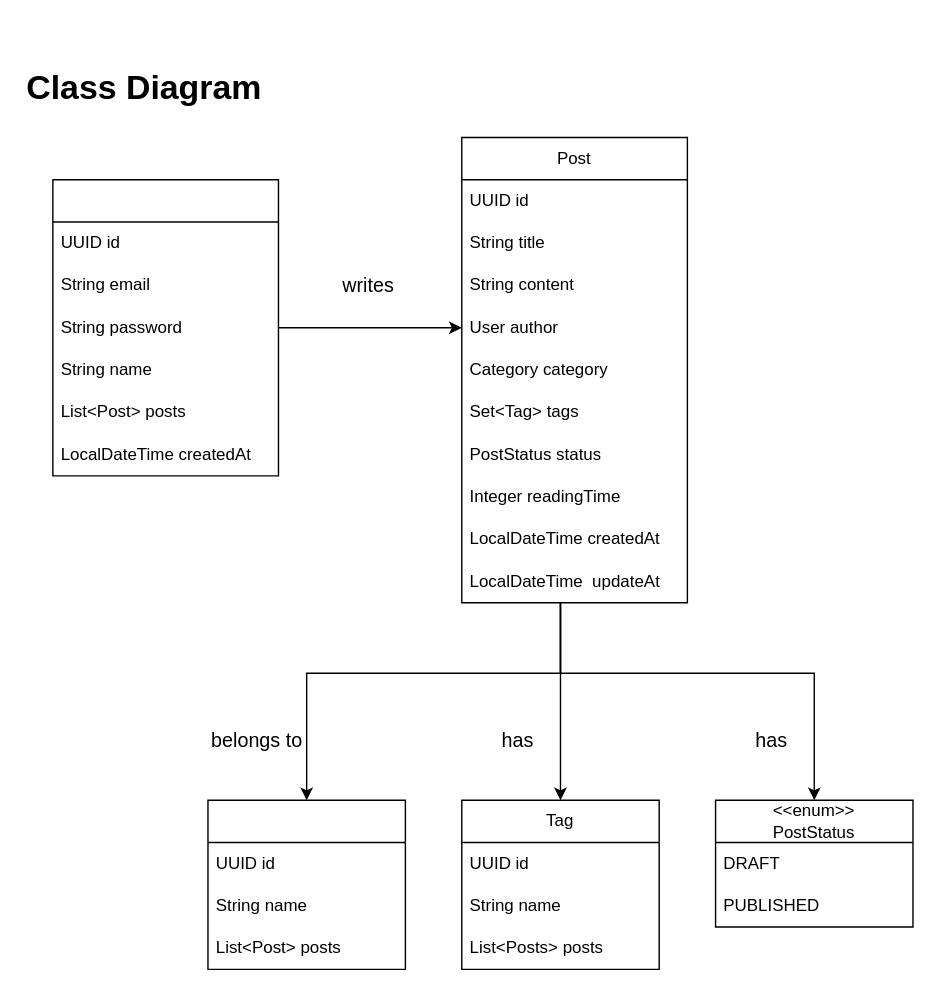
This 938x994 diagram has some shape labels left out. Each missing label, with the box of its shape:
Category: (207, 799, 405, 969)
User: (51, 178, 278, 476)
